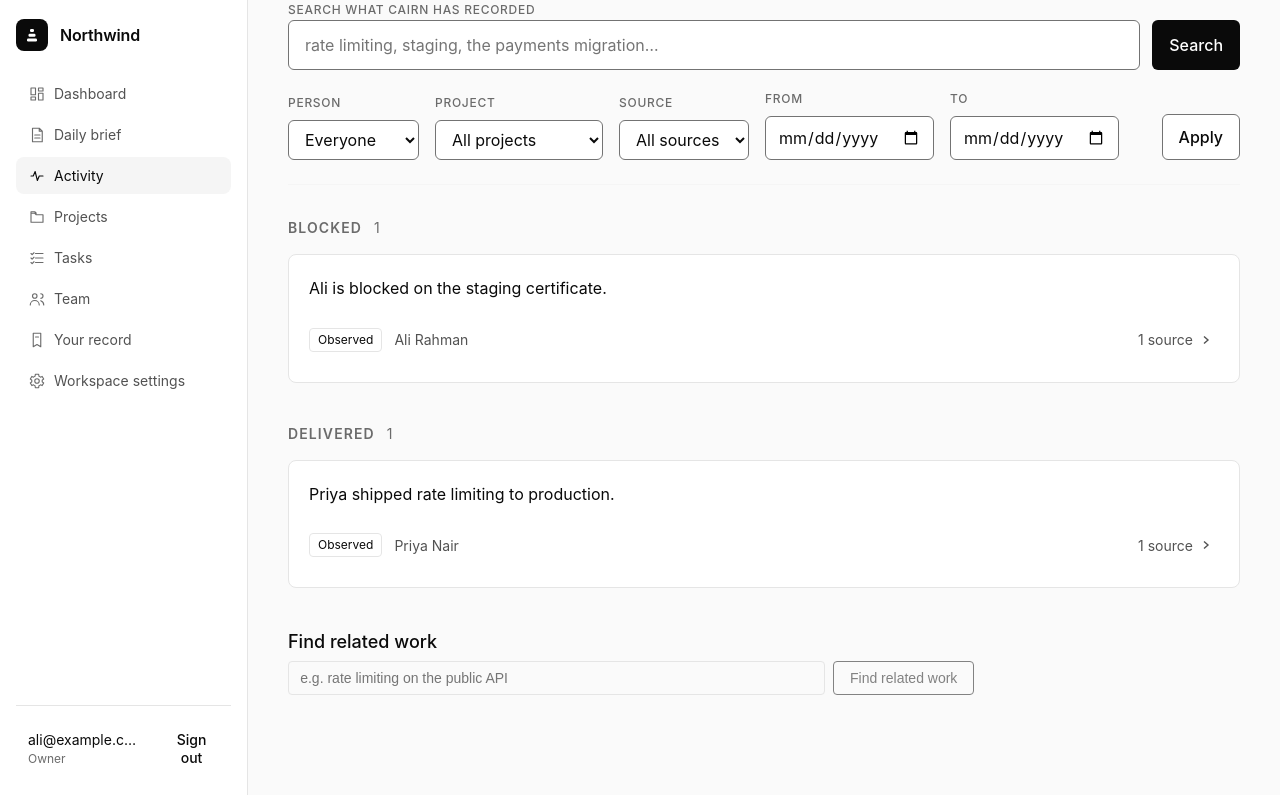
Test: the related-work finder › shows evidence cards grouped by person, with no score anywhere
(page scrolled)
In the search field named "task or topic to find related work": [556, 678] box [288,662,825,696], type "rate limiting"
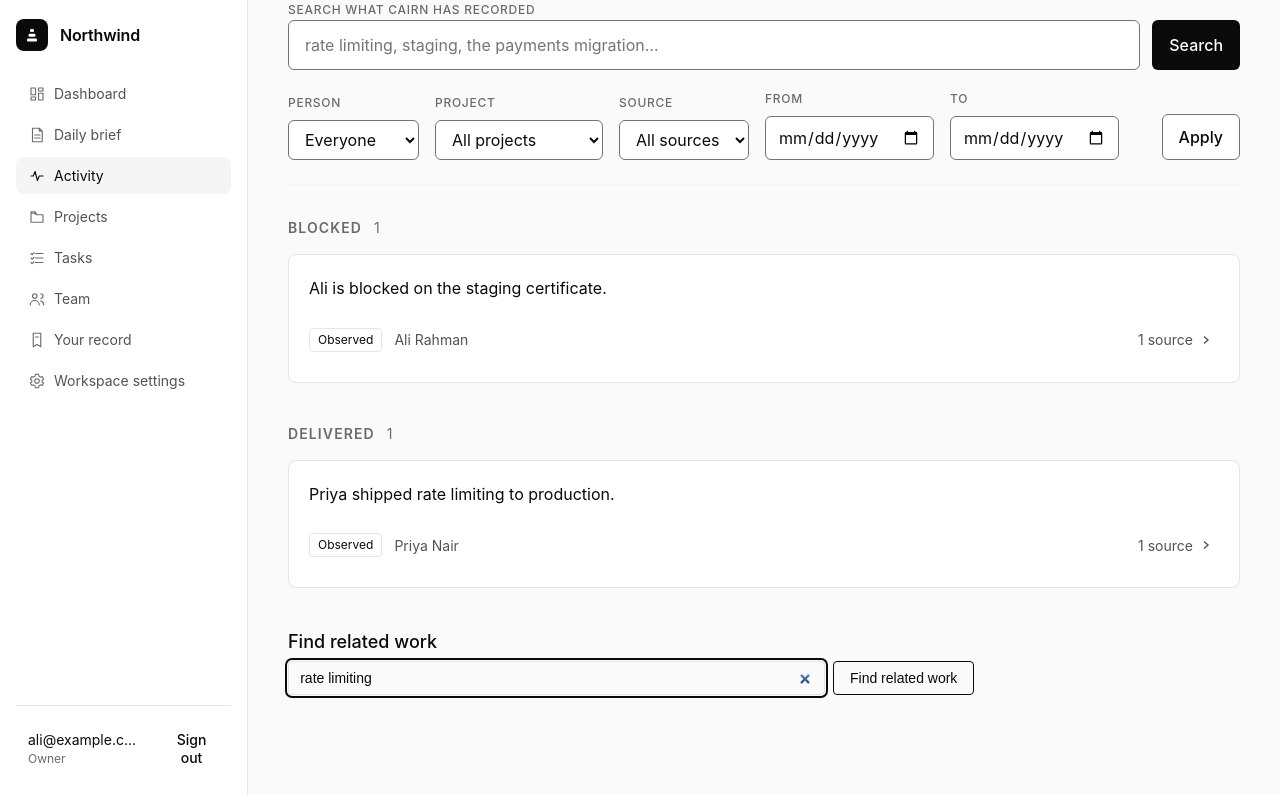
Click the button "Find related work": [904, 678] box [833,662,974,696]
(page scrolled)
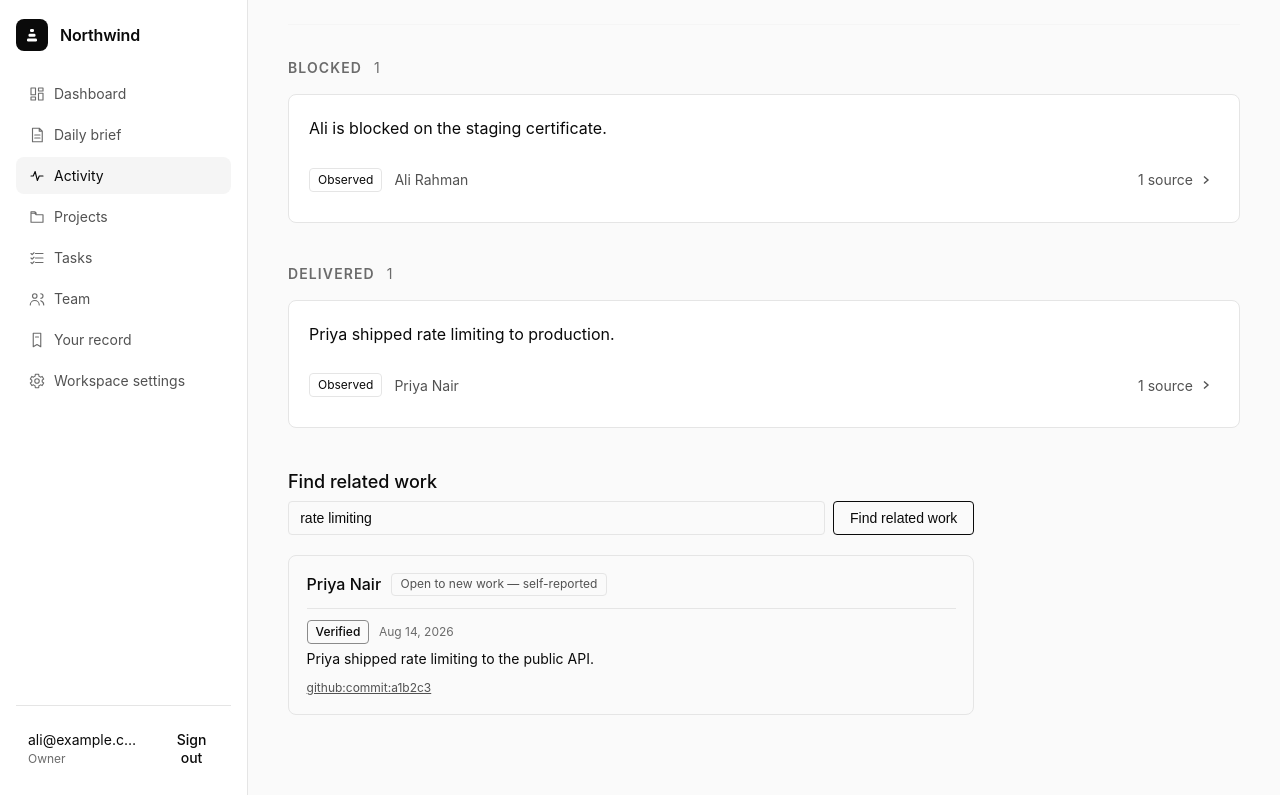
Result: the text "Priya Nair" next to "Open to new work — self-reported" is shown at [307,574,381,594]
Result: the text "Priya shipped rate limiting to the public API." is shown at [307,650,594,667]
